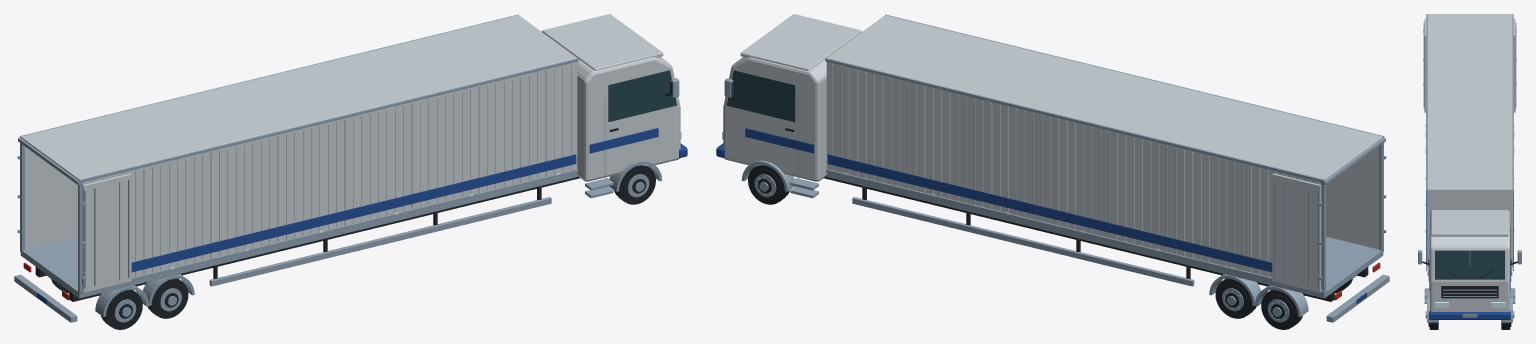
Rendered from SM_GHN_LongDockTruck.fbx.
3 views of the same model, side by side, from view 1: azimuth 30°, elevation 25°; view 2: azimuth 150°, elevation 25°; view 3: azimuth 270°, elevation 25° (orthographic). The views are drawn at different scales.
Parts seen in each view (by area): view 1: SM_GHN_LongDockTruck; view 2: SM_GHN_LongDockTruck; view 3: SM_GHN_LongDockTruck.
Part boxes in pixels (x1,y1,x2,y2): SM_GHN_LongDockTruck: (14,14,687,329); SM_GHN_LongDockTruck: (716,14,1389,329); SM_GHN_LongDockTruck: (1418,14,1521,329).
Size of the model in its own units: 1490 by 300 by 374.
